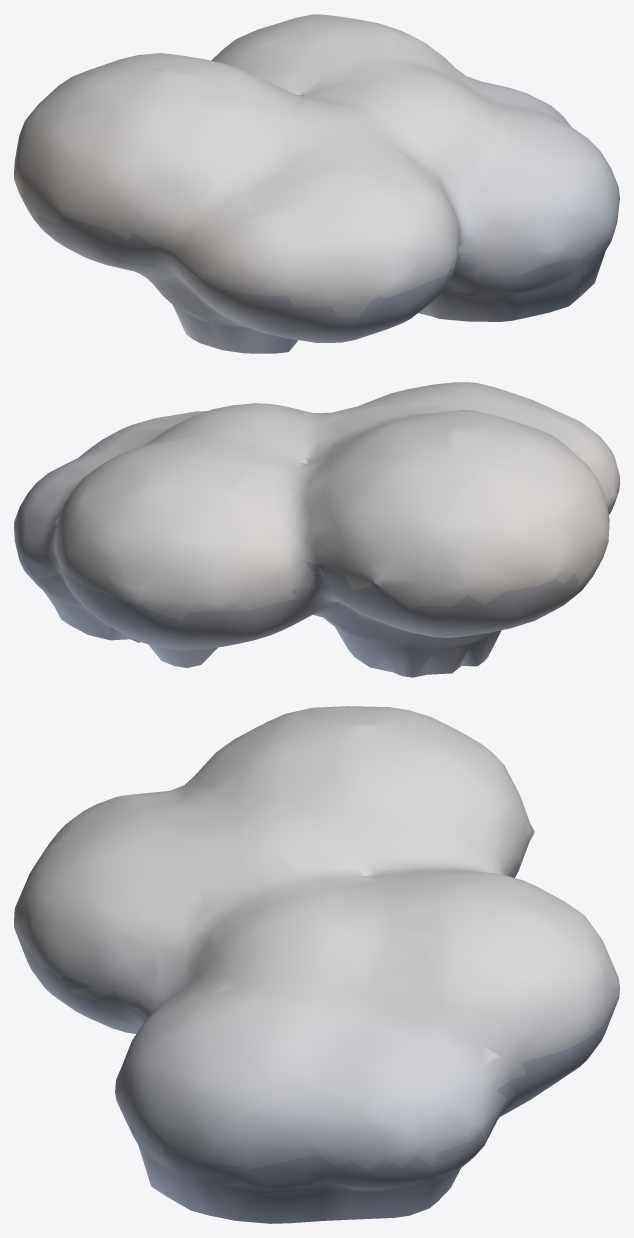
Rendered from CloudC.glb.
3 views of the same model, one above another, from view 1: azimuth 30°, elevation 25°; view 2: azimuth 150°, elevation 25°; view 3: azimuth 270°, elevation 25° (orthographic). The views are drawn at different scales.
Visible parts, largest first — view 1: Cloud.002; view 2: Cloud.002; view 3: Cloud.002.
Boxes of the visible parts, bbox=[...] form: Cloud.002: bbox=[14, 14, 619, 353]; Cloud.002: bbox=[14, 382, 619, 677]; Cloud.002: bbox=[14, 706, 619, 1223].
Size of the model in its own units: 67.39 by 31.01 by 57.17.
